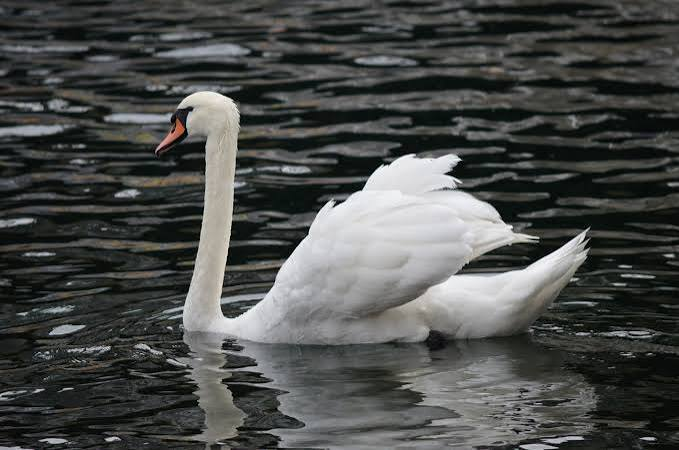swan: (152, 91, 593, 345)
